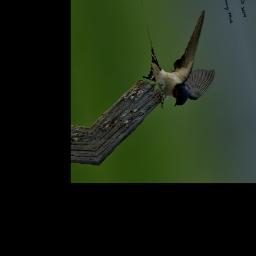Swallow: (132, 0, 225, 118)
